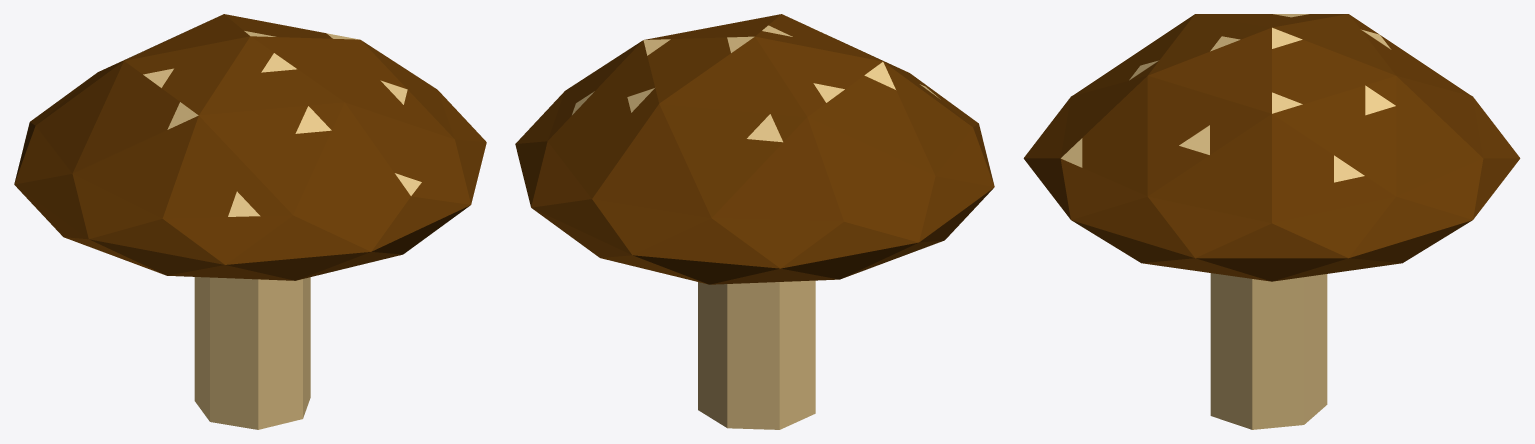
The model's file is Mushroom2.fbx.
3 views of the same model, side by side, from view 1: azimuth 30°, elevation 25°; view 2: azimuth 150°, elevation 25°; view 3: azimuth 270°, elevation 25° (orthographic). The views are drawn at different scales.
Visible parts, largest first — view 1: Mushroom.001; view 2: Mushroom.001; view 3: Mushroom.001.
Part boxes in pixels (left/top/right/bottom): Mushroom.001: left=14, top=14, right=486, bottom=429; Mushroom.001: left=515, top=14, right=994, bottom=429; Mushroom.001: left=1023, top=14, right=1520, bottom=429.
Size of the model in its own units: 66.55 by 58.56 by 69.97.
